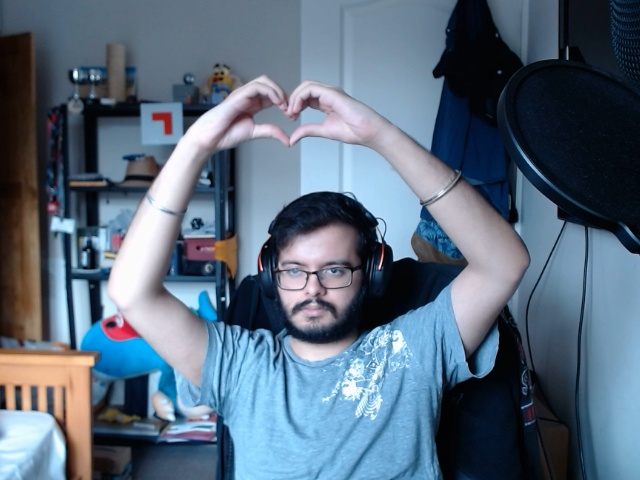Heart: (183, 73, 381, 151)
